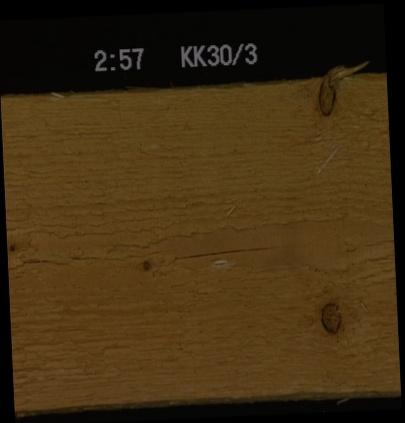dry_knot: (316, 300, 342, 335)
edge_knot: (313, 73, 339, 118)
small_knot: (137, 255, 153, 273), (6, 238, 18, 254)
split: (6, 247, 140, 272), (157, 238, 282, 264)
wave: (60, 376, 399, 406)
